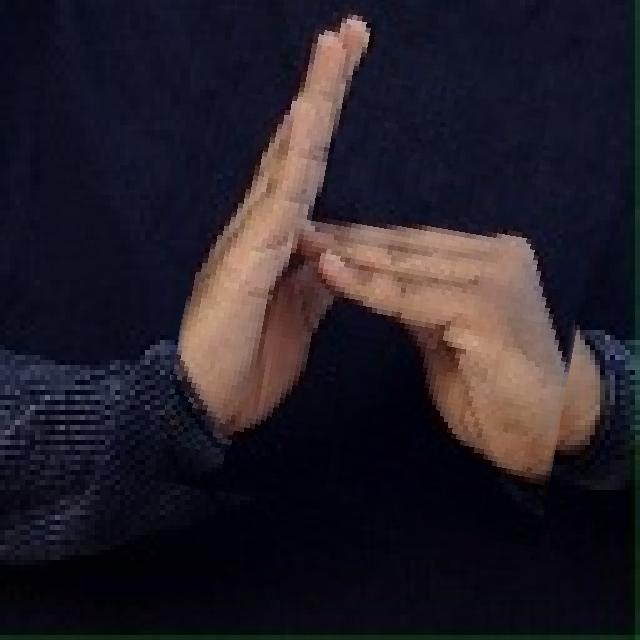Z: (173, 0, 605, 533)
